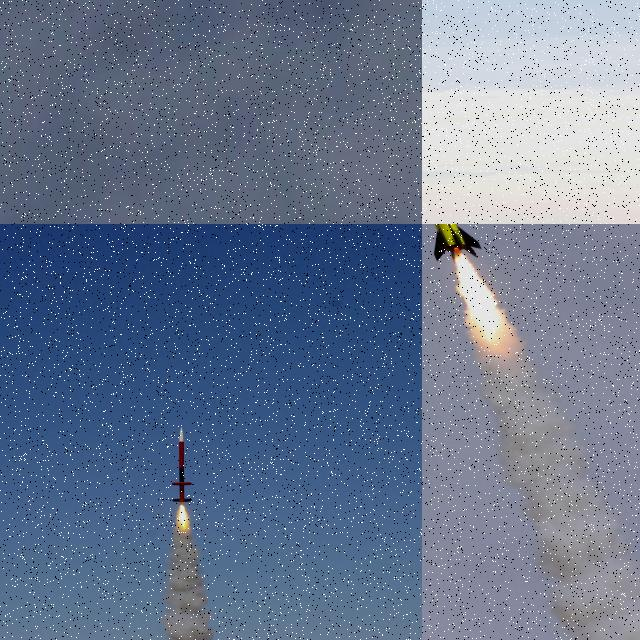Rocket: (422, 224, 482, 262), (172, 426, 192, 502)
